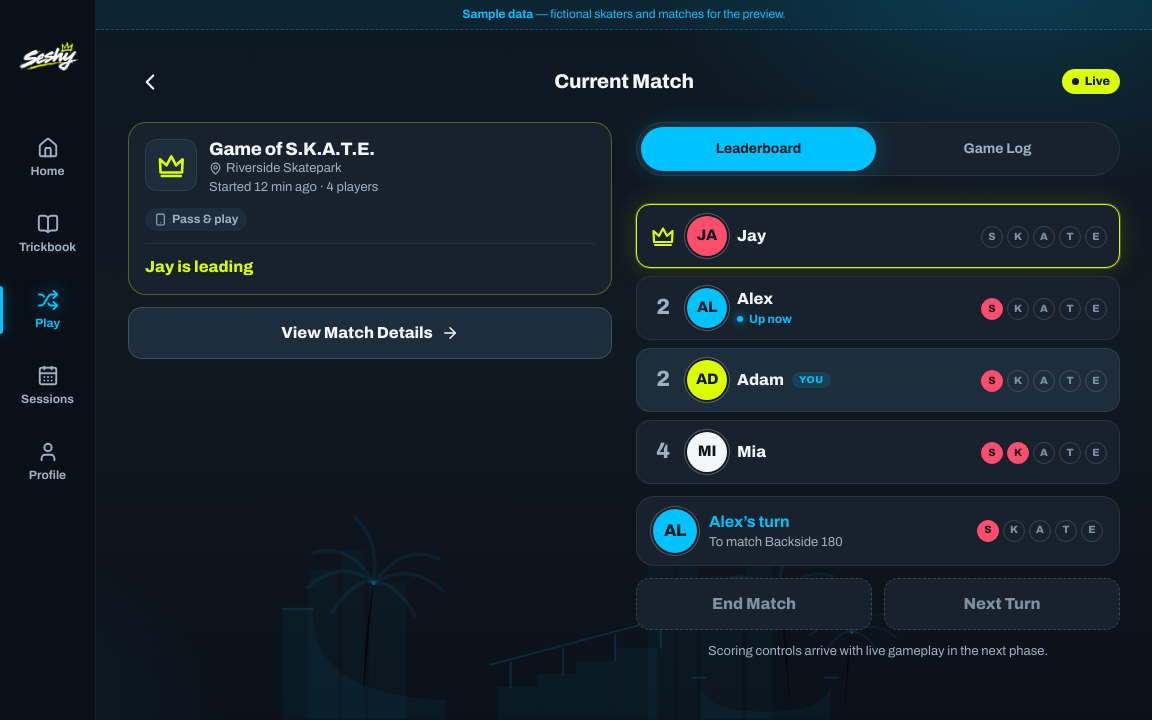
Test: Current Match › has working Leaderboard / Game Log tabs and honest disabled controls
Check: the button "End Match" is disabled, box [636, 578, 872, 630]
Check: the button "Next Turn" is disabled, box [884, 578, 1120, 630]
What coordinates should you click on to do the following:
click the button "Game Log"
I would click on:
 (998, 149)
Its box is [880, 127, 1115, 171].
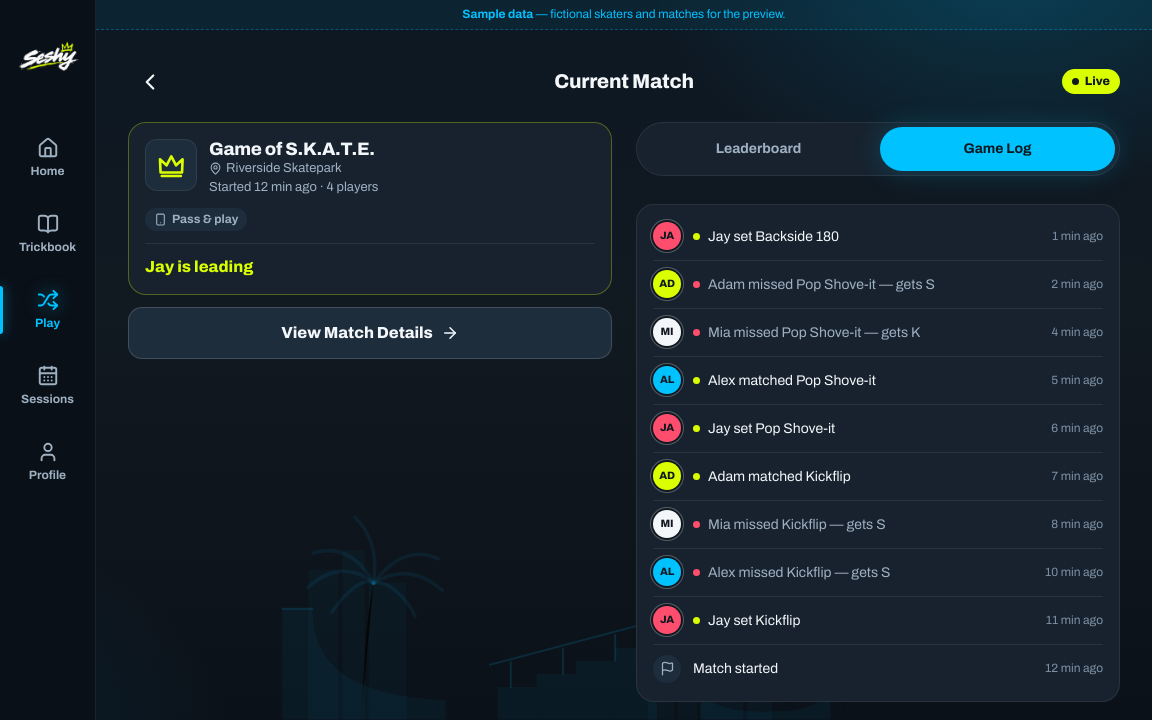
Check: the element named "Game log" is shown, box [636, 204, 1120, 702]
Check: the text "1 min ago" is shown, box [1052, 228, 1103, 245]
Check: the button "End Match" is gone
